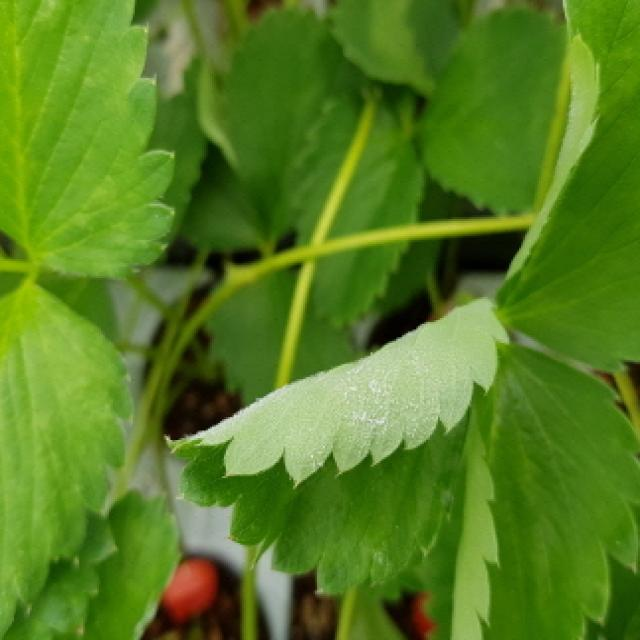Powdery Mildew Leaf: (160, 295, 510, 598)
